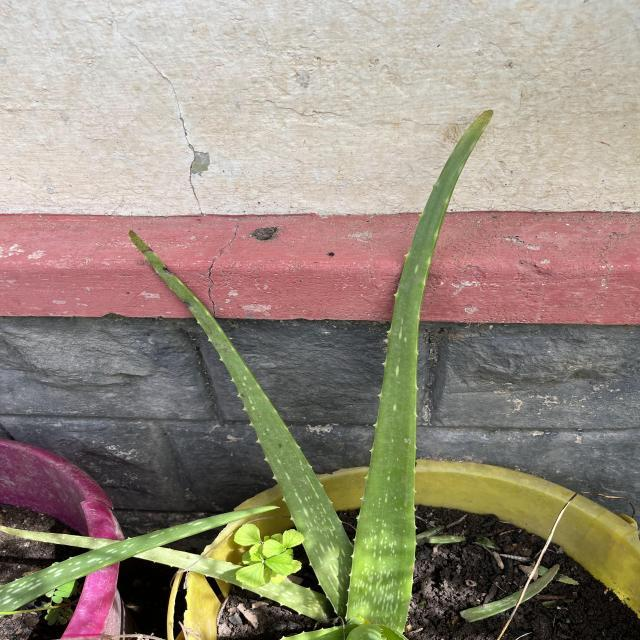Aloe vera: (341, 107, 498, 640)
